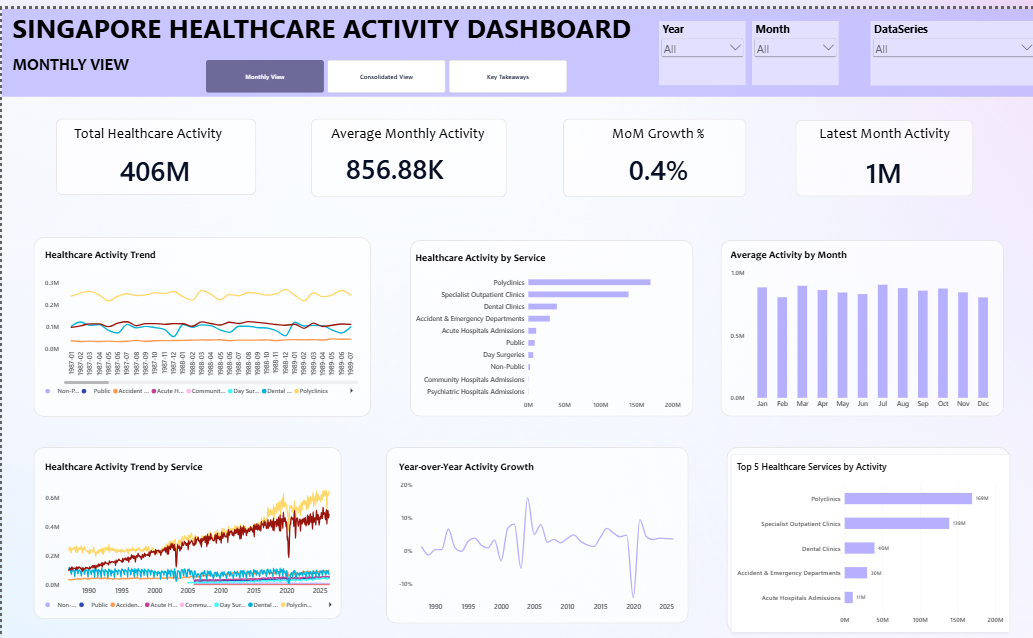

Layout of this report page (visuals, bound fields, positions):
{"tool":"powerbi","page":{"name":"Monthly View","canvas":[2300,1400],"ordinal":0},"visuals":[{"type":"shape","box":[0,0,2300,195],"z":0},{"type":"textbox","box":[22.5,100,280,50],"z":1000},{"type":"textbox","box":[23.3,0,1496.7,93.3],"z":2000},{"type":"shape","box":[120,242.5,445,170],"z":3000},{"type":"cardVisual","fields":{"Data":["sg_hospital_admissions_monthly.Total Healthcare Activity"]},"box":[167.5,300,347.5,110],"z":4000},{"type":"textbox","box":[137.5,257.5,376.7,53.3],"z":5000},{"type":"shape","box":[685,242.5,435,175],"z":6000},{"type":"cardVisual","fields":{"Data":["sg_hospital_admissions_monthly.Average Monthly Activity"]},"box":[707.5,285,332.5,130],"z":7000},{"type":"textbox","box":[702.5,257.5,397.5,52.5],"z":8000},{"type":"shape","box":[1247.5,242.5,407.5,175],"z":9000},{"type":"cardVisual","fields":{"Data":["sg_hospital_admissions_monthly.MoM Growth %"]},"box":[1335,292.5,245,122.5],"z":10000},{"type":"shape","box":[1762.5,247.5,395,170],"z":11000},{"type":"cardVisual","fields":{"Data":["sg_hospital_admissions_monthly.Latest Month Activity"]},"box":[1830,307.5,260,107.5],"z":12000},{"type":"textbox","box":[1805,257.5,310,52.5],"z":13000},{"type":"textbox","box":[1297.5,255,322.5,55],"z":14000},{"type":"shape","box":[70,505,750,400],"z":15000},{"type":"lineChart","title":"Healthcare Activity Trend","fields":{"Category":["DateTable.Year Month"],"Series":["sg_hospital_admissions_monthly.DataSeries"],"Y":["sg_hospital_admissions_monthly.Total Healthcare Activity"]},"box":[83.3,520,720,355],"z":16000},{"type":"shape","box":[70,972.5,685,382.5],"z":17000},{"type":"lineChart","title":"Healthcare Activity Trend by Service","fields":{"Category":["DateTable.Date"],"Series":["sg_hospital_admissions_monthly.DataSeries"],"Y":["sg_hospital_admissions_monthly.Total Healthcare Activity"]},"box":[82.5,990,672.5,360],"z":18000},{"type":"shape","box":[852.5,972.5,672.5,392.5],"z":19000},{"type":"shape","box":[1597.5,512.5,630,392.5],"z":20000},{"type":"shape","box":[907.5,512.5,630,392.5],"z":21000},{"type":"lineChart","title":"Year-over-Year Activity Growth","fields":{"Category":["DateTable.Year"],"Y":["sg_hospital_admissions_monthly.YoY Growth %"]},"box":[870,990,650,365],"z":22000},{"type":"columnChart","title":"Average Activity by Month","fields":{"Category":["DateTable.Month Name"],"Y":["sg_hospital_admissions_monthly.Average Activity by Month"]},"box":[1605,520,615,385],"z":23000},{"type":"clusteredBarChart","title":"Healthcare Activity by Service","fields":{"Category":["sg_hospital_admissions_monthly.DataSeries"],"Y":["sg_hospital_admissions_monthly.Total Healthcare Activity"]},"box":[907.5,525,615,380],"z":24000},{"type":"slicer","fields":{"Values":["DateTable.Year"]},"box":[1460,27.5,192.5,142.5],"z":25000},{"type":"shape","box":[1610,972.5,630,412.5],"z":26000},{"type":"barChart","title":"Top 5 Healthcare Services by Activity","fields":{"Category":["sg_hospital_admissions_monthly.DataSeries"],"Y":["sg_hospital_admissions_monthly.Total Healthcare Activity"]},"box":[1620,990,620,395],"z":27000},{"type":"slicer","fields":{"Values":["sg_hospital_admissions_monthly.DataSeries"]},"box":[1930,26.7,370,143.3],"z":28000},{"type":"slicer","fields":{"Values":["DateTable.Month Name"]},"box":[1665,27.5,192.5,142.5],"z":29000},{"type":"pageNavigator","box":[453.3,113.3,803.3,73.3],"z":29001}]}

Visuals, with their boxes in screenshot pixels (x1, y1, x2, y2), scaled from the page's 2300x1400 canvas onto the 1033x638 screenshot:
shape: box(0, 0, 1032, 89)
textbox: box(10, 46, 136, 68)
textbox: box(10, 0, 683, 43)
shape: box(54, 111, 254, 188)
cardVisual - sg_hospital_admissions_monthly.Total Healthcare Activity: box(75, 137, 231, 187)
textbox: box(62, 117, 231, 142)
shape: box(308, 111, 503, 190)
cardVisual - sg_hospital_admissions_monthly.Average Monthly Activity: box(318, 130, 467, 189)
textbox: box(316, 117, 494, 141)
shape: box(560, 111, 743, 190)
cardVisual - sg_hospital_admissions_monthly.MoM Growth %: box(600, 133, 710, 189)
shape: box(792, 113, 969, 190)
cardVisual - sg_hospital_admissions_monthly.Latest Month Activity: box(822, 140, 939, 189)
textbox: box(811, 117, 950, 141)
textbox: box(583, 116, 728, 141)
shape: box(31, 230, 368, 412)
"Healthcare Activity Trend" lineChart: box(37, 237, 361, 399)
shape: box(31, 443, 339, 617)
"Healthcare Activity Trend by Service" lineChart: box(37, 451, 339, 615)
shape: box(383, 443, 685, 622)
shape: box(717, 234, 1000, 412)
shape: box(408, 234, 691, 412)
"Year-over-Year Activity Growth" lineChart: box(391, 451, 683, 617)
"Average Activity by Month" columnChart: box(721, 237, 997, 412)
"Healthcare Activity by Service" clusteredBarChart: box(408, 239, 684, 412)
slicer - DateTable.Year: box(656, 13, 742, 77)
shape: box(723, 443, 1006, 631)
"Top 5 Healthcare Services by Activity" barChart: box(728, 451, 1006, 631)
slicer - sg_hospital_admissions_monthly.DataSeries: box(867, 12, 1032, 77)
slicer - DateTable.Month Name: box(748, 13, 834, 77)
pageNavigator: box(204, 52, 564, 85)
